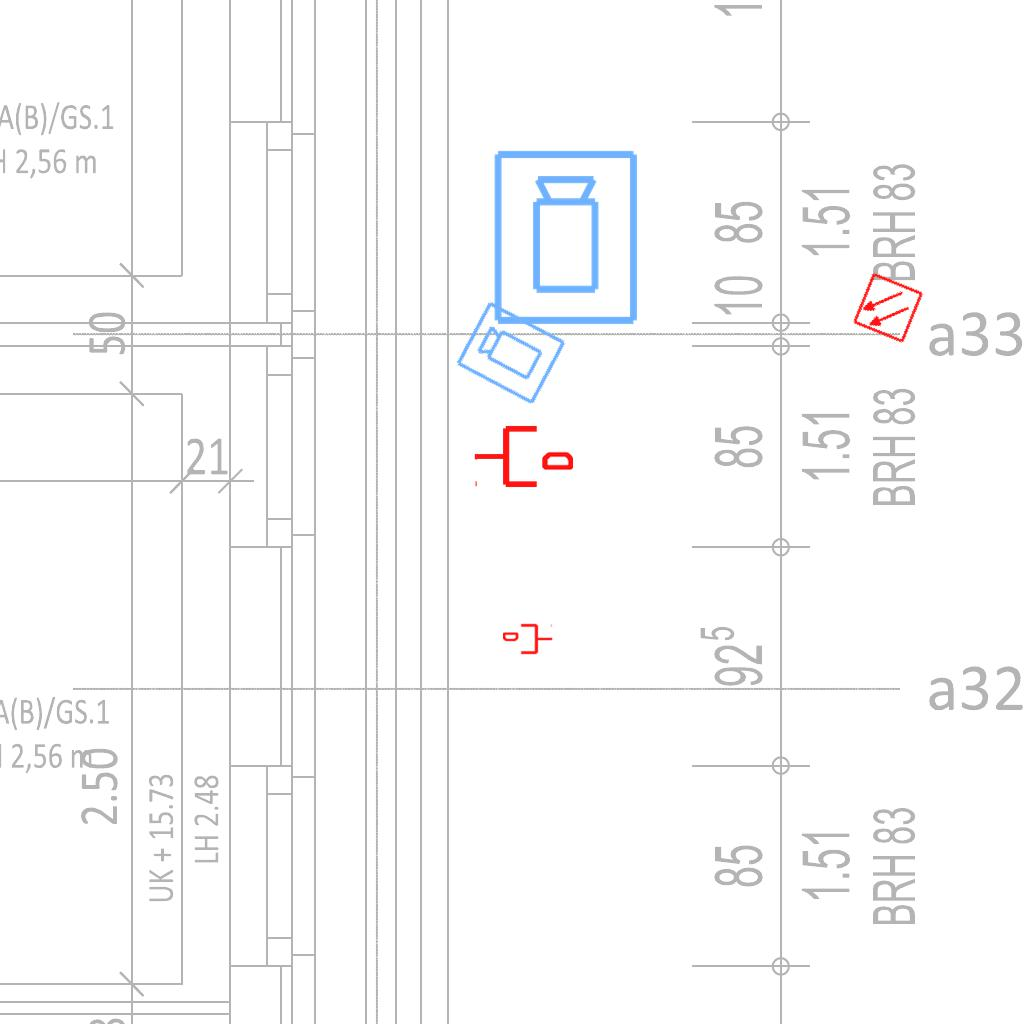Datenanschluss_einfach: (473, 422, 573, 491), (503, 622, 553, 656)
KFO_Kamera_mit_Festobjektiv: (490, 147, 644, 329), (453, 297, 570, 408)
RMO_Rauchmelder_optischer: (851, 271, 925, 345)
